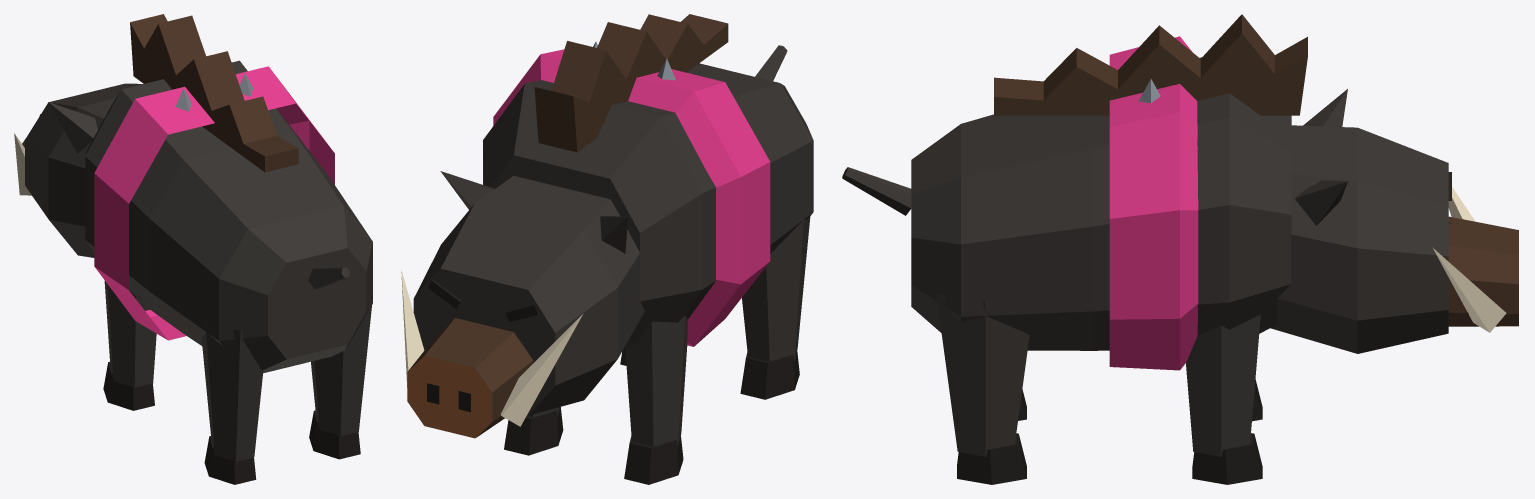
Rendered from EN_WarBoar.fbx.
The picture shows the model from 3 angles, left to right: view 1: azimuth 30°, elevation 25°; view 2: azimuth 150°, elevation 25°; view 3: azimuth 270°, elevation 25°; orthographic projection. The views are drawn at different scales.
Visible parts, largest first — view 1: Body, Head, LegL, LegR, ArmL; view 2: Body, Head, ArmL, LegL, ArmR; view 3: Body, Head, LegR, ArmR.
Part boxes in pixels (x1,y1,x2,y2): Body: [85, 14, 372, 373]; Head: [14, 83, 142, 257]; LegL: [201, 319, 263, 484]; LegR: [309, 295, 372, 459]; ArmL: [103, 280, 156, 410]; Body: [483, 14, 813, 346]; Head: [401, 171, 644, 438]; ArmL: [624, 315, 687, 484]; LegL: [740, 203, 810, 399]; ArmR: [504, 407, 563, 455]; Body: [842, 14, 1307, 370]; Head: [1270, 89, 1518, 353]; LegR: [936, 293, 1029, 484]; ArmR: [1186, 314, 1262, 484].
Bounding box in the file's own units: 0.6923 × 1.62 × 1.11.
